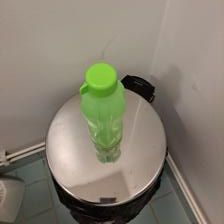bottle: (78, 61, 127, 150)
